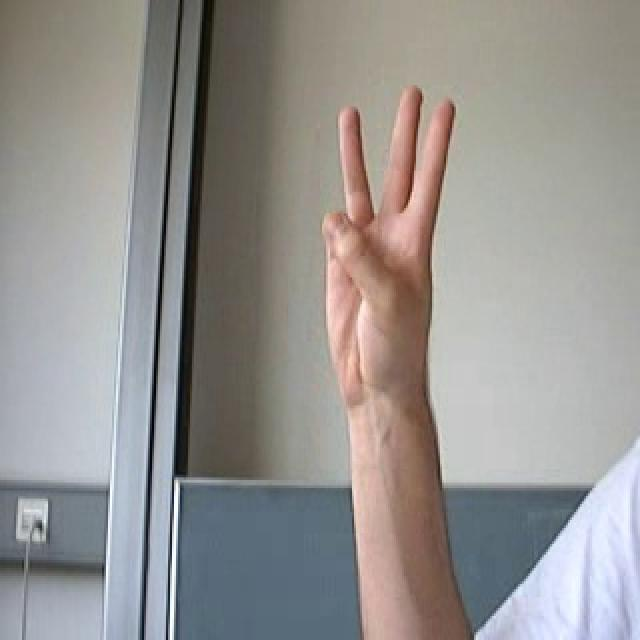W: (268, 53, 488, 448)
